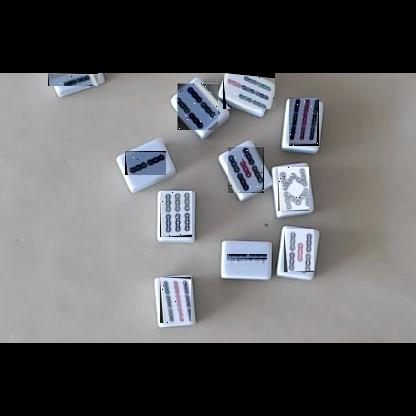2s: (125, 151, 166, 175), (227, 255, 267, 264)
4s: (177, 83, 218, 130)
5s: (228, 146, 264, 193), (284, 229, 314, 272)
6s: (160, 191, 192, 237)
7s: (223, 73, 275, 109), (48, 73, 98, 86)
8s: (278, 167, 309, 211)
9s: (289, 98, 319, 146), (160, 277, 191, 323)
